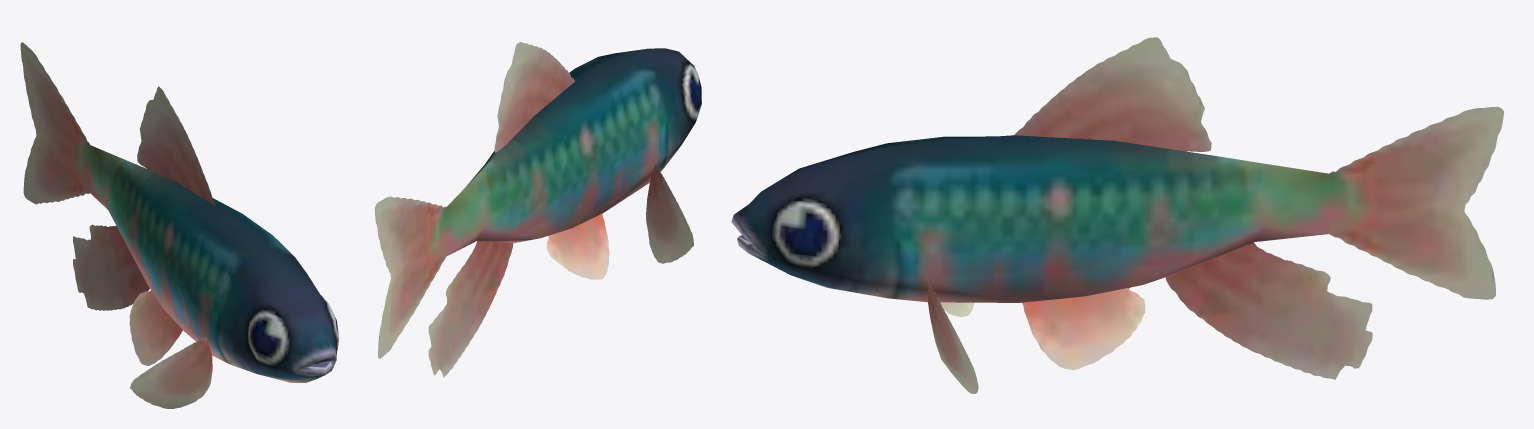
The model's file is pale-chub.glb.
The picture shows the model from 3 angles, left to right: view 1: azimuth 30°, elevation 25°; view 2: azimuth 150°, elevation 25°; view 3: azimuth 270°, elevation 25°; orthographic projection. The views are drawn at different scales.
Bounding box in the file's own units: 1.27 × 1.73 × 3.09.
Materials: 1 (1 with a texture image).
